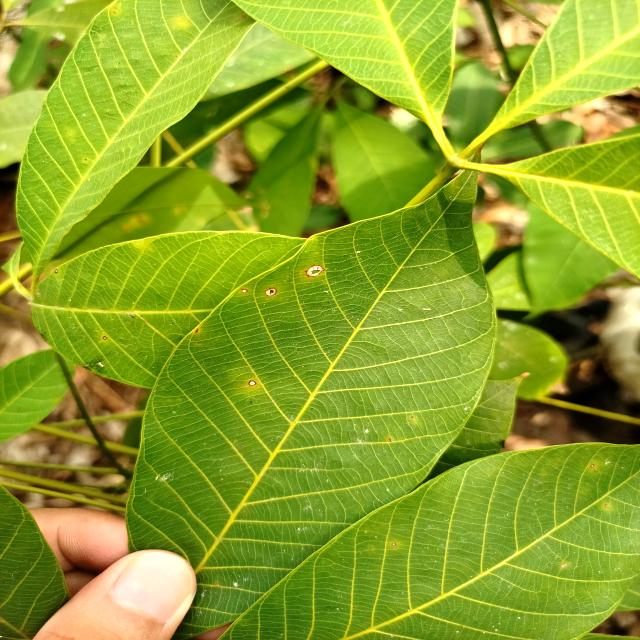Colletotrichum: (305, 265, 325, 277), (265, 288, 277, 296), (248, 380, 256, 386), (242, 289, 248, 293), (590, 464, 594, 468), (103, 336, 107, 340), (55, 269, 58, 273), (392, 543, 396, 545)
